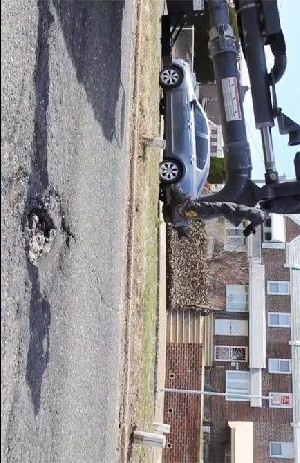pothole: (17, 184, 74, 276)
